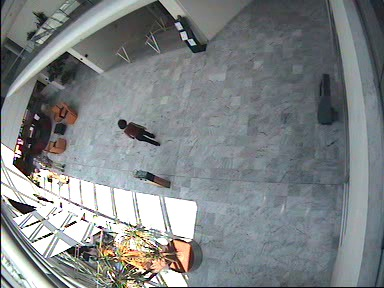person: (117, 118, 160, 145), (35, 154, 64, 172), (35, 169, 69, 183)
